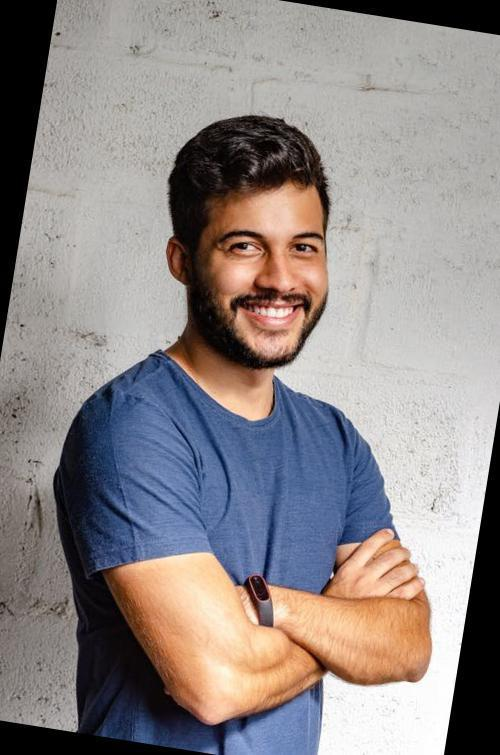Sober: (214, 189, 329, 358)
